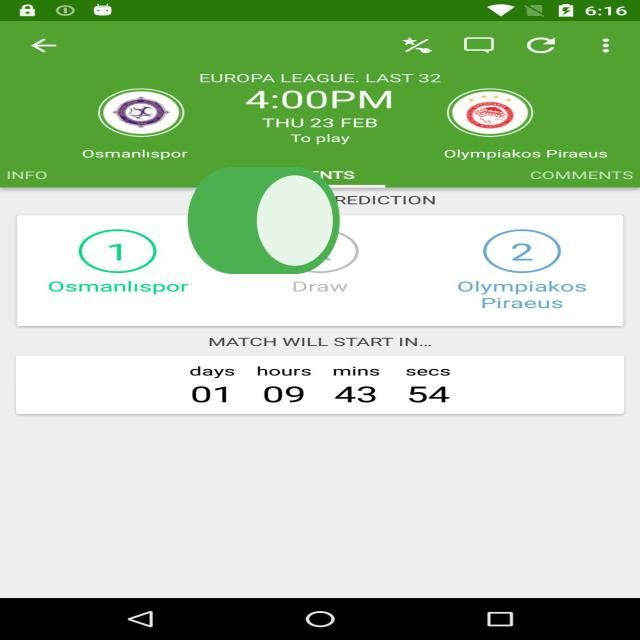social proof: (180, 126, 347, 323)
